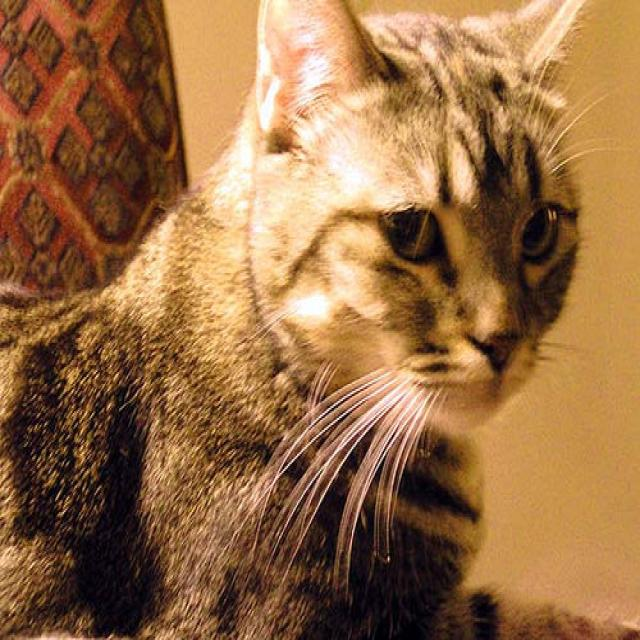cat: (1, 1, 606, 639)
